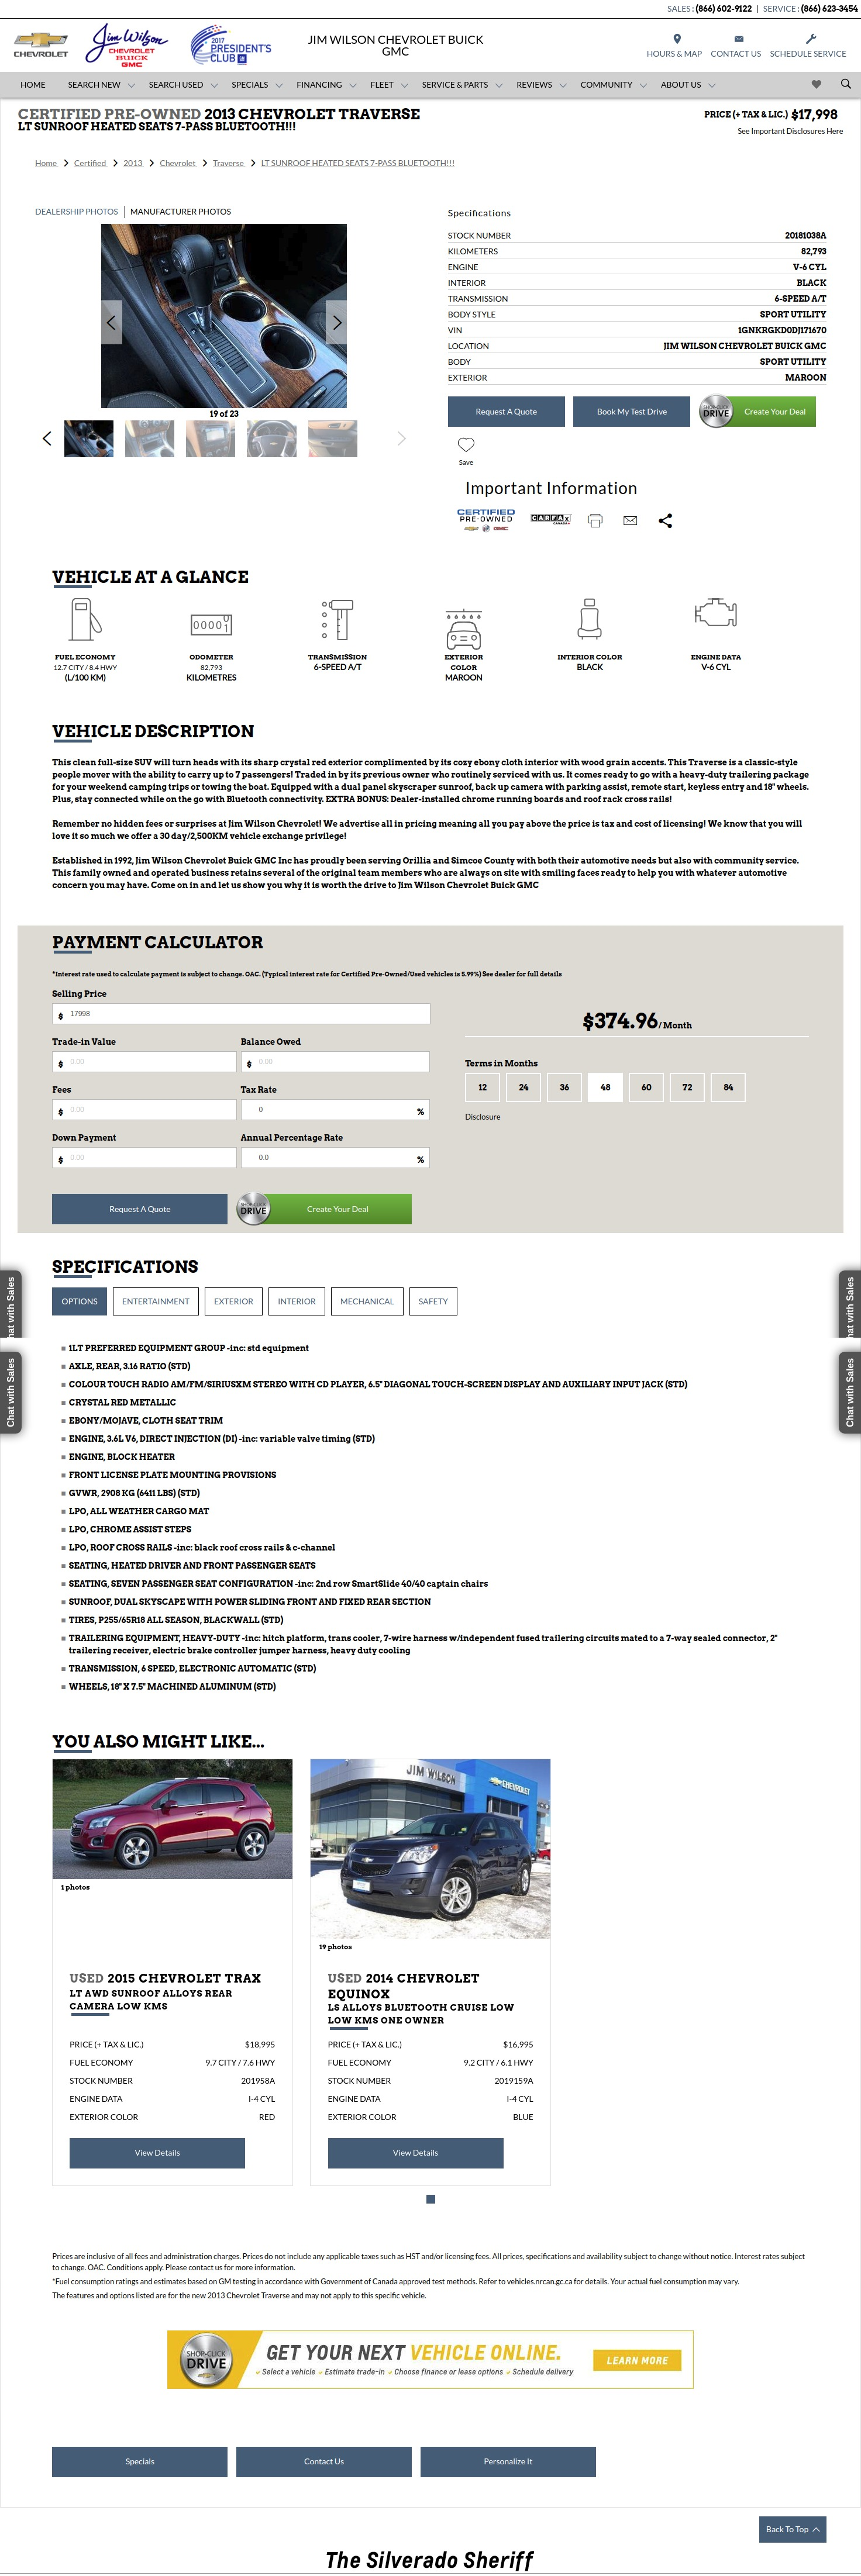car: (398, 430, 407, 447)
